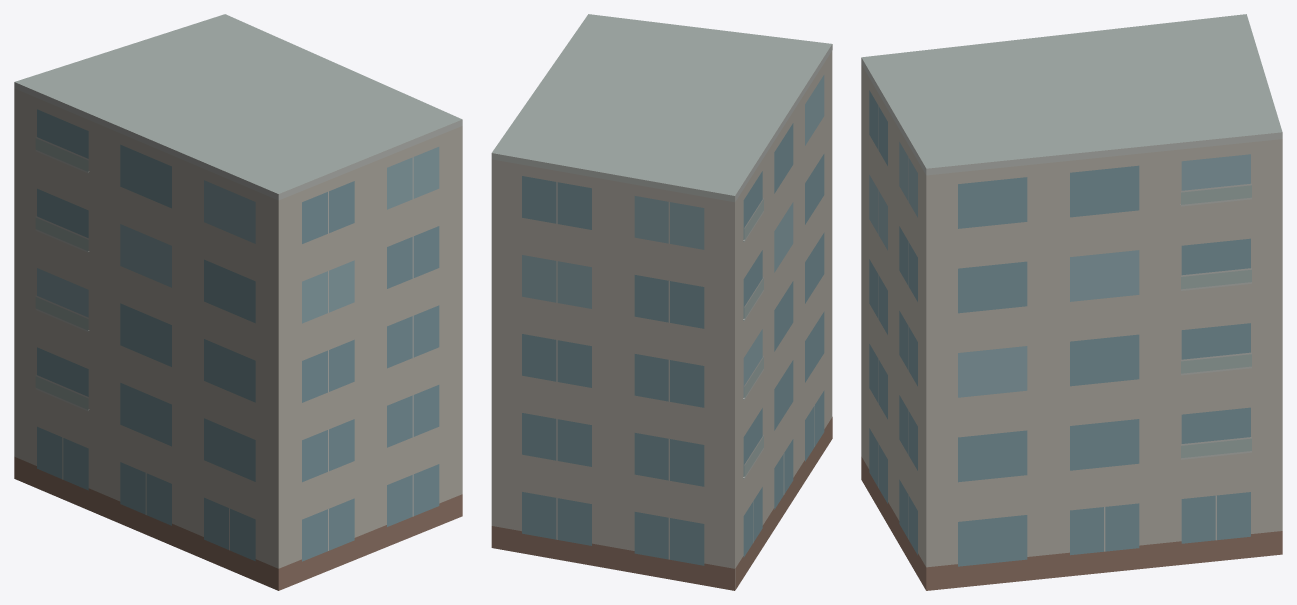
File: survey-upis-32518038.glb
3 renders of one model, left to right at view 1: azimuth 30°, elevation 25°; view 2: azimuth 150°, elevation 25°; view 3: azimuth 270°, elevation 25°, orthographic. The views are drawn at different scales.
Parts seen in each view (by area): view 1: survey-upis-32518038.tmp; view 2: survey-upis-32518038.tmp; view 3: survey-upis-32518038.tmp.
Boxes of the visible parts, bbox=[...] form: survey-upis-32518038.tmp: bbox=[14, 14, 462, 590]; survey-upis-32518038.tmp: bbox=[491, 14, 832, 590]; survey-upis-32518038.tmp: bbox=[861, 14, 1282, 590].
Size of the model in its own units: 11.99 by 15.25 by 13.8.
